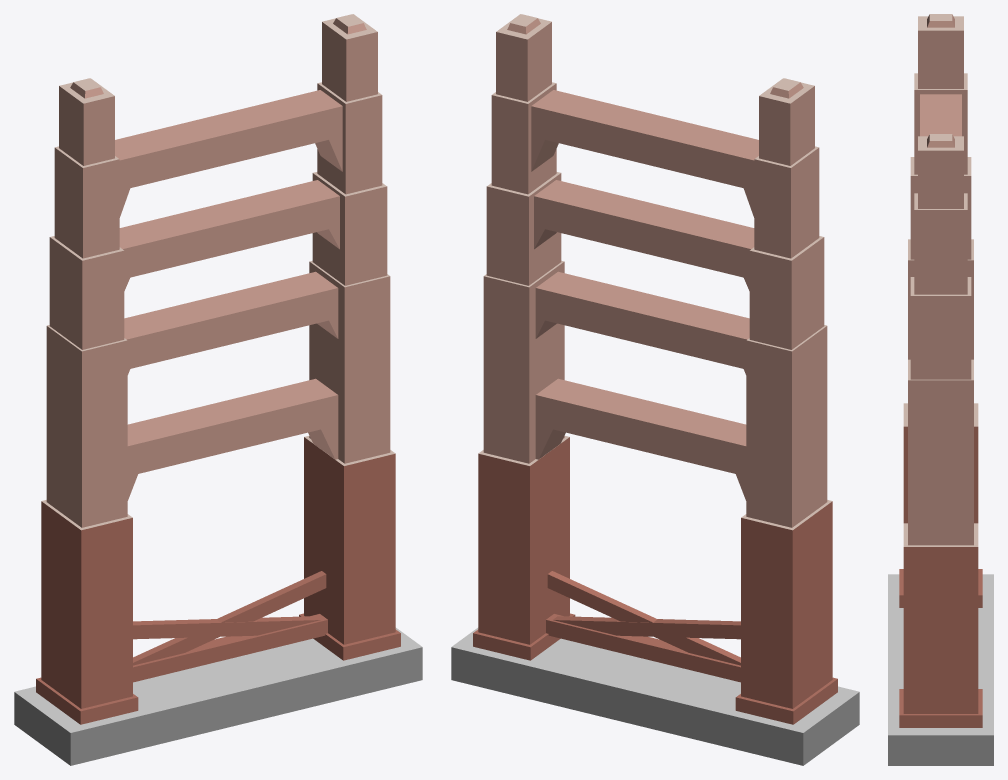
The model's file is bridge_tower_001.glb.
3 renders of one model, left to right at view 1: azimuth 30°, elevation 25°; view 2: azimuth 150°, elevation 25°; view 3: azimuth 270°, elevation 25°, orthographic. The views are drawn at different scales.
Parts seen in each view (by area): view 1: bridge tower_001; view 2: bridge tower_001; view 3: bridge tower_001.
Part boxes in pixels (x1,y1,x2,y2): bridge tower_001: (14, 14, 422, 765); bridge tower_001: (451, 14, 859, 765); bridge tower_001: (888, 14, 993, 765).
Size of the model in its own units: 23.15 by 40.81 by 6.43.
1 material, 1 textured.
